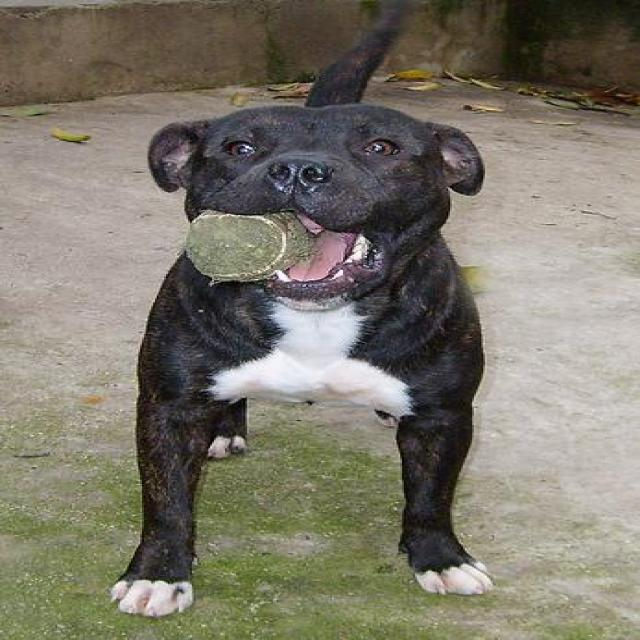staffordshire_bullterrier: (105, 0, 496, 618)
